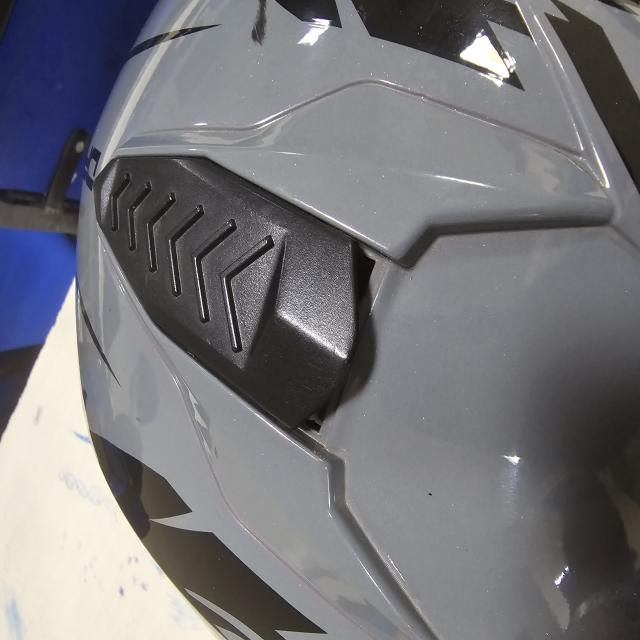helmet: (66, 0, 640, 638)
